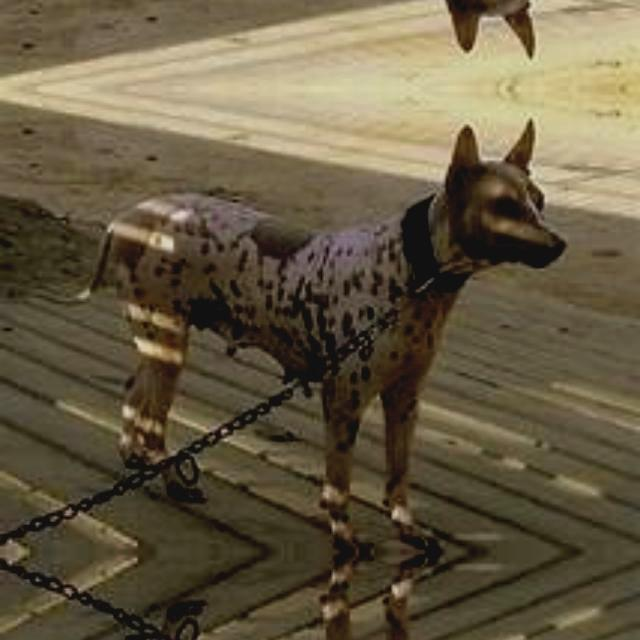dog: (84, 121, 596, 528), (84, 574, 596, 640), (84, 0, 596, 54)
